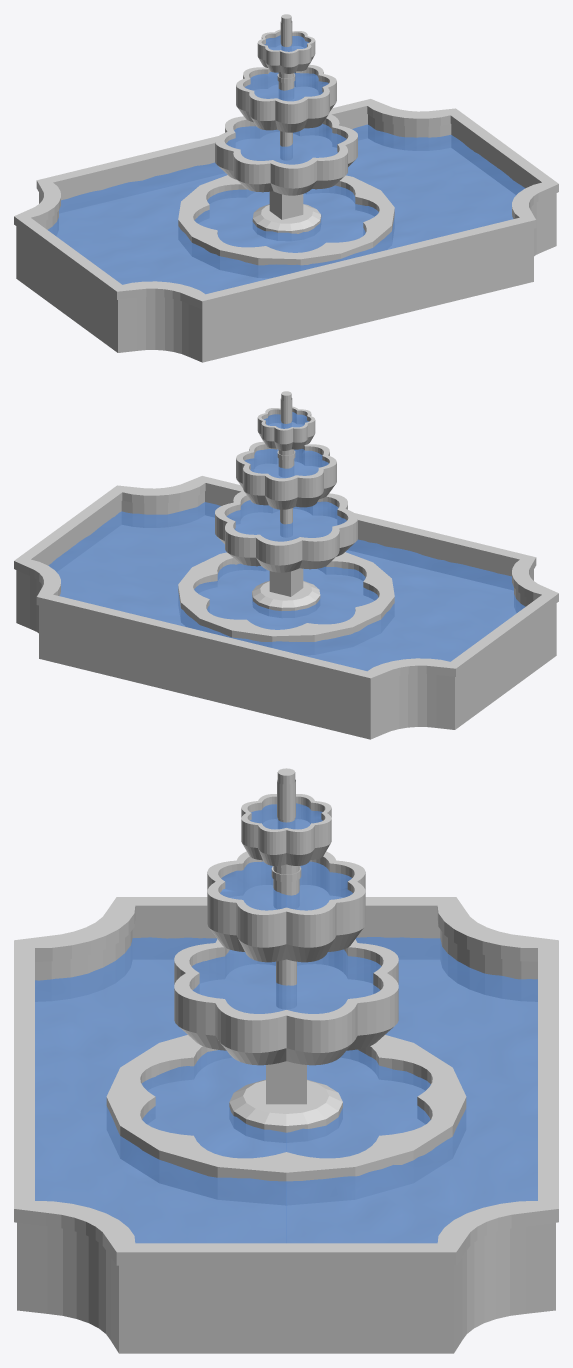
File: fountain.glb
The picture shows the model from 3 angles, top to bottom: view 1: azimuth 30°, elevation 25°; view 2: azimuth 150°, elevation 25°; view 3: azimuth 270°, elevation 25°; orthographic projection. The views are drawn at different scales.
Visible parts, largest first — view 1: Flowers_1, Water_0, Cylinders_2; view 2: Flowers_1, Water_0, Cylinders_2; view 3: Flowers_1, Water_0, Cylinders_2.
Boxes of the visible parts, <box> form: Flowers_1: <box>14,29,558,362</box>; Water_0: <box>48,35,525,294</box>; Cylinders_2: <box>178,14,394,277</box>; Flowers_1: <box>14,406,558,739</box>; Water_0: <box>48,412,525,671</box>; Cylinders_2: <box>178,391,394,654</box>; Flowers_1: <box>14,794,558,1353</box>; Water_0: <box>35,803,537,1243</box>; Cylinders_2: <box>106,768,466,1205</box>.
Bounding box in the file's own units: 8.36 × 4.45 × 5.42.
